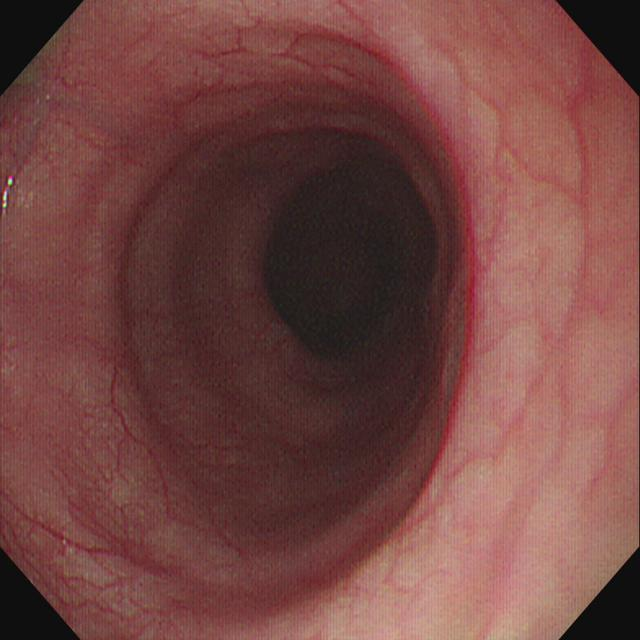E: (272, 204, 397, 355)
